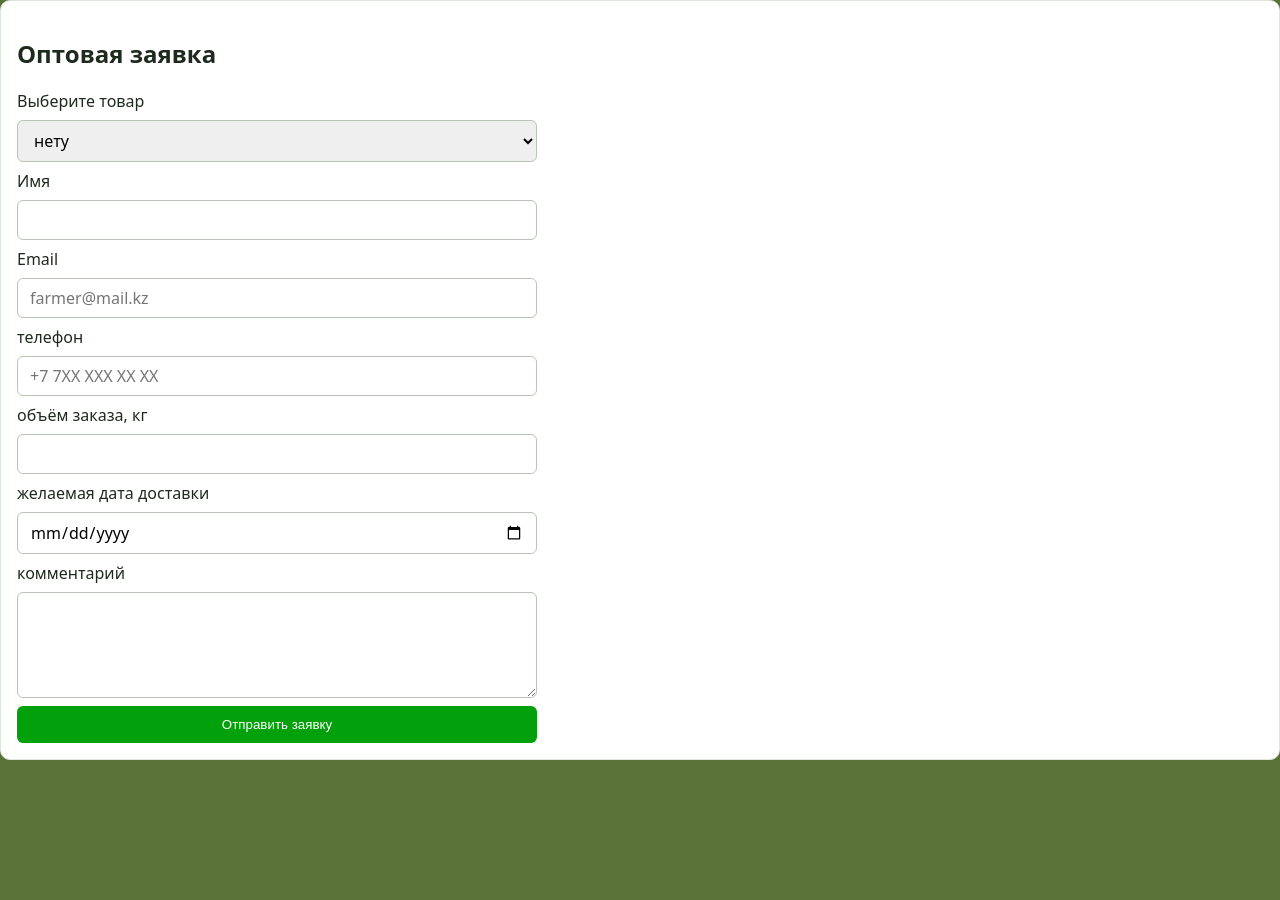
Test: Оптовая заявка — MSW › обрабатывает обрыв сети при отправке
Select "Мёд гречишный" in the dropdown labelled "Выберите товар" at x=277, y=141, box [17, 120, 537, 162]
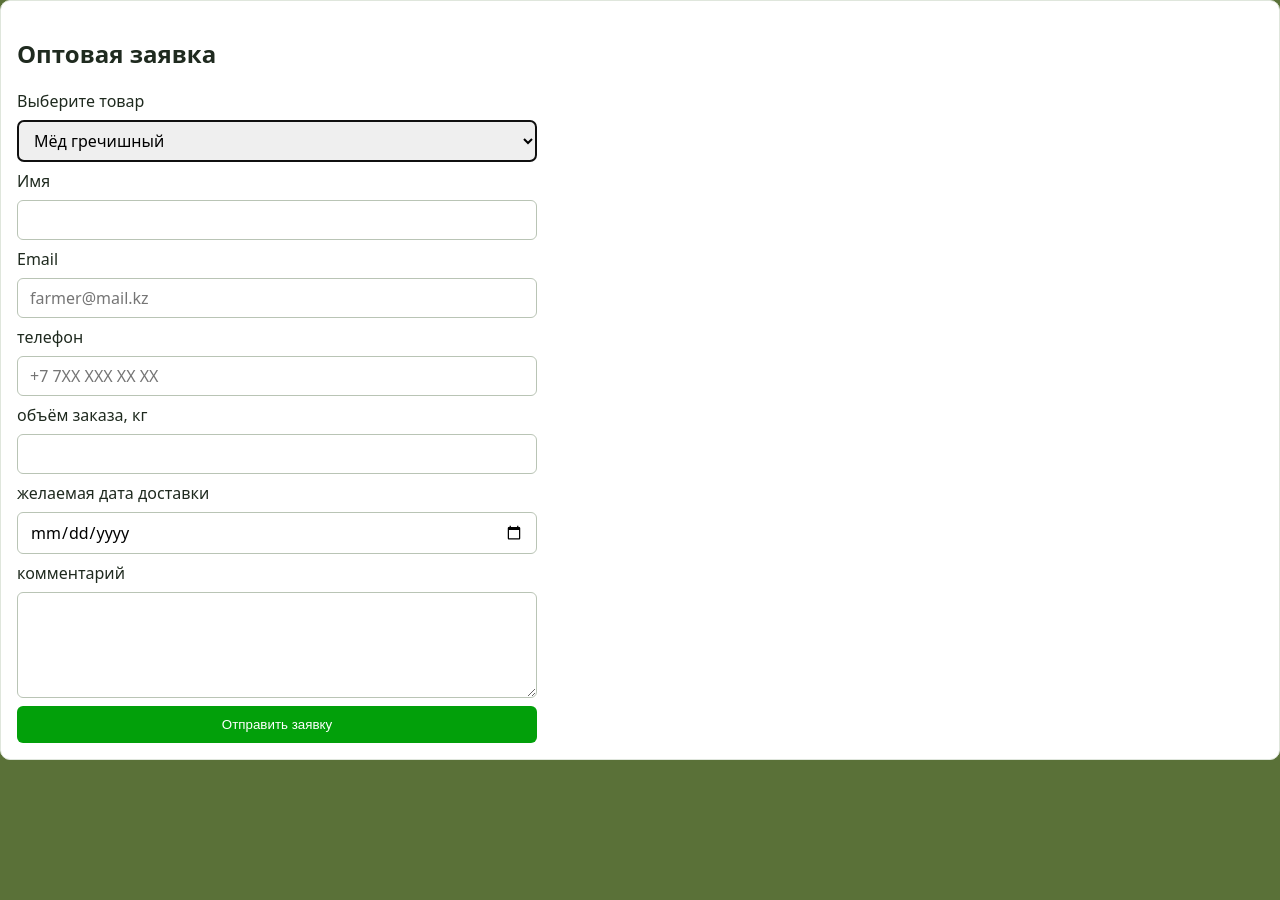
Type "Покупатель" into the field labelled "Имя" at x=277, y=220, box [17, 200, 537, 240]
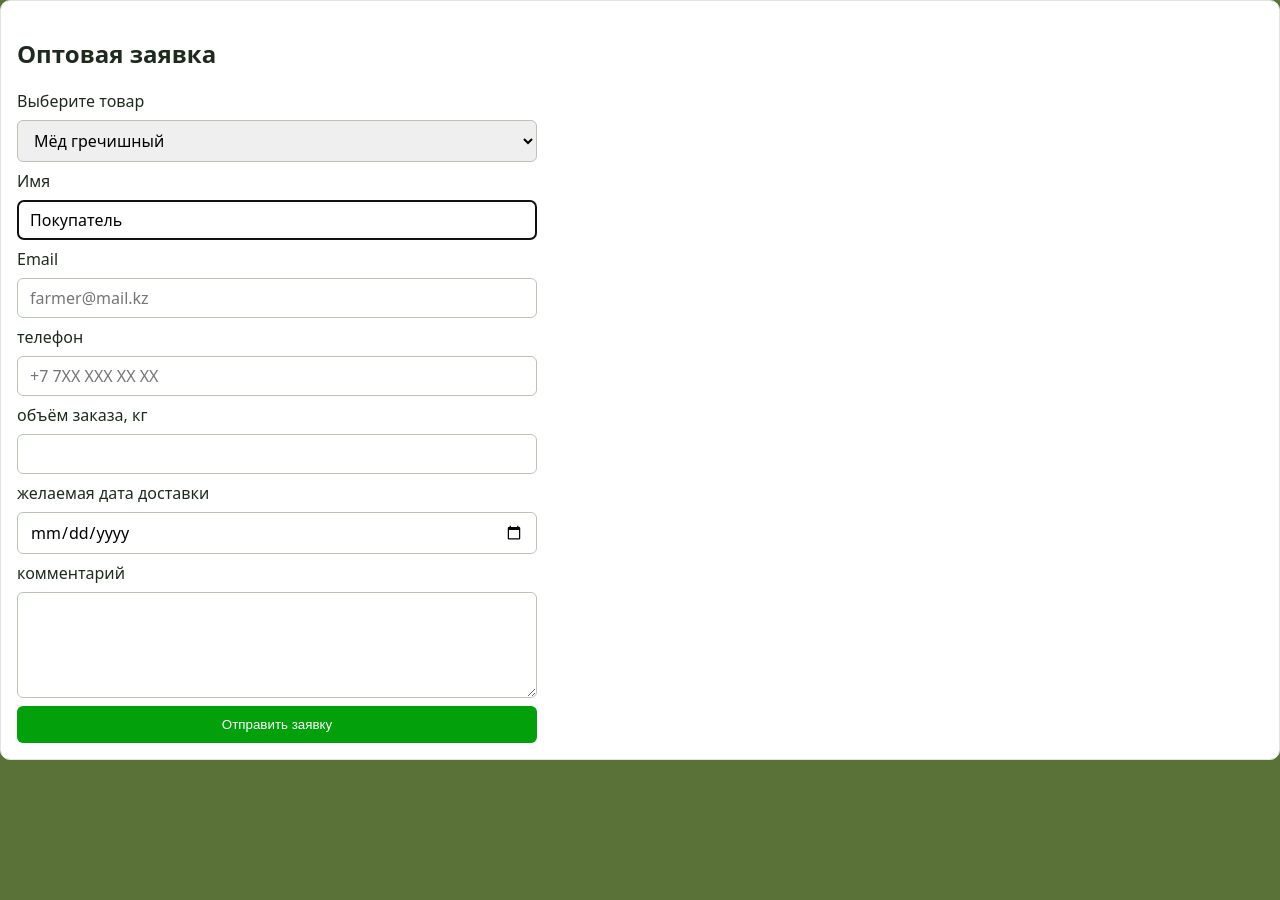
Type "buyer@example.test" into the field labelled "Email" at x=277, y=298, box [17, 278, 537, 318]
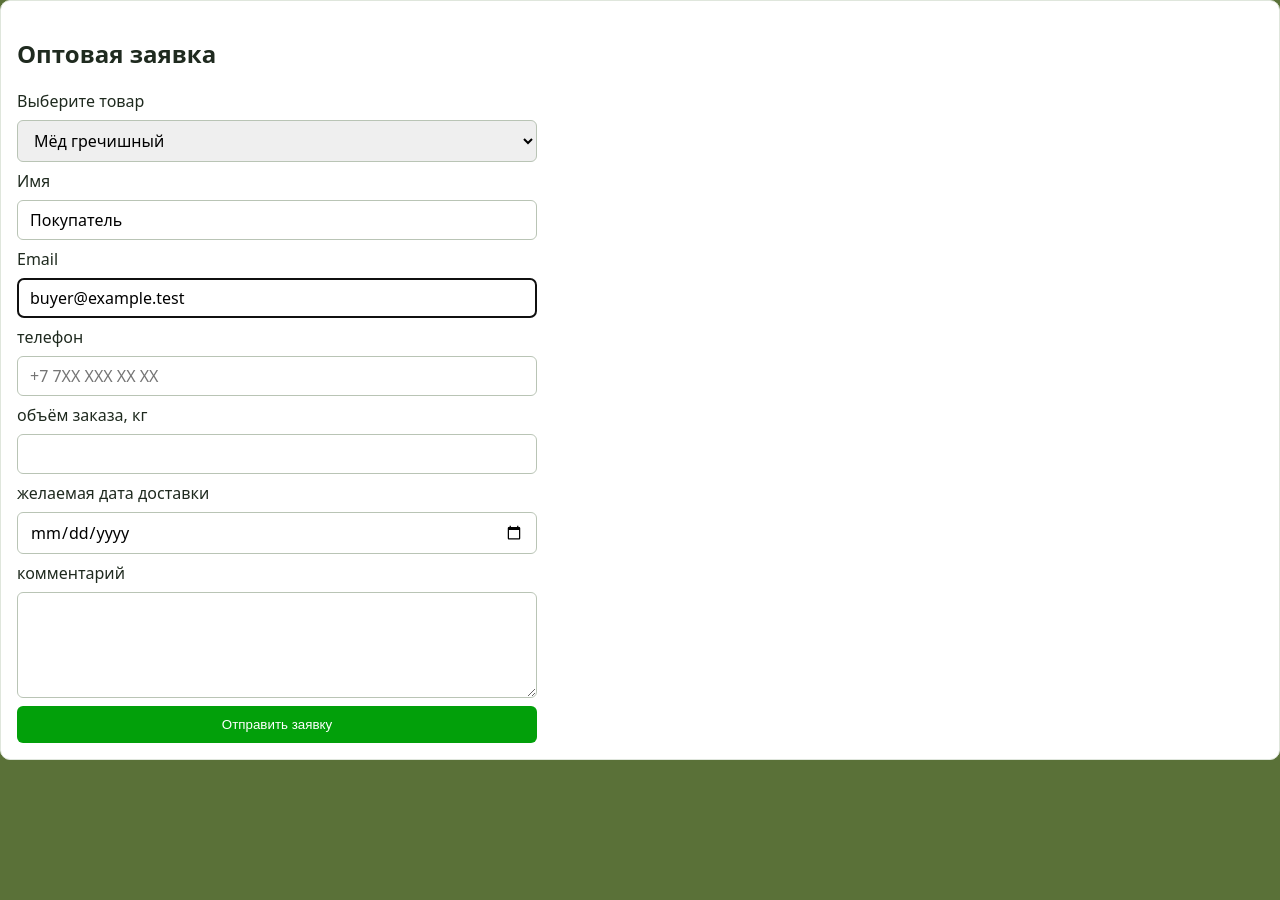
Type "10" into the number field labelled "объём заказа, кг" at x=277, y=454, box [17, 434, 537, 474]
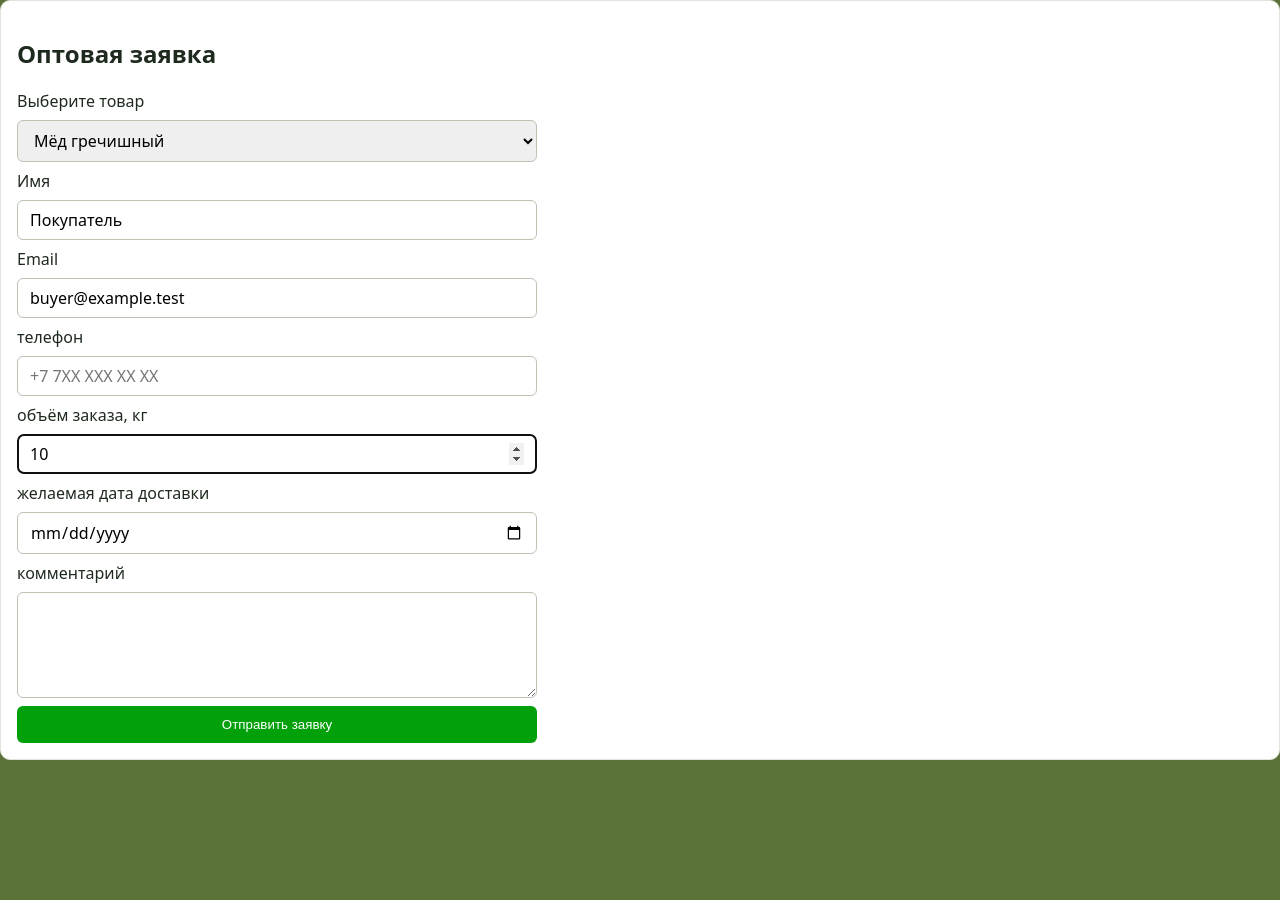
Click the button "Отправить заявку" at x=277, y=724, box [17, 706, 537, 743]
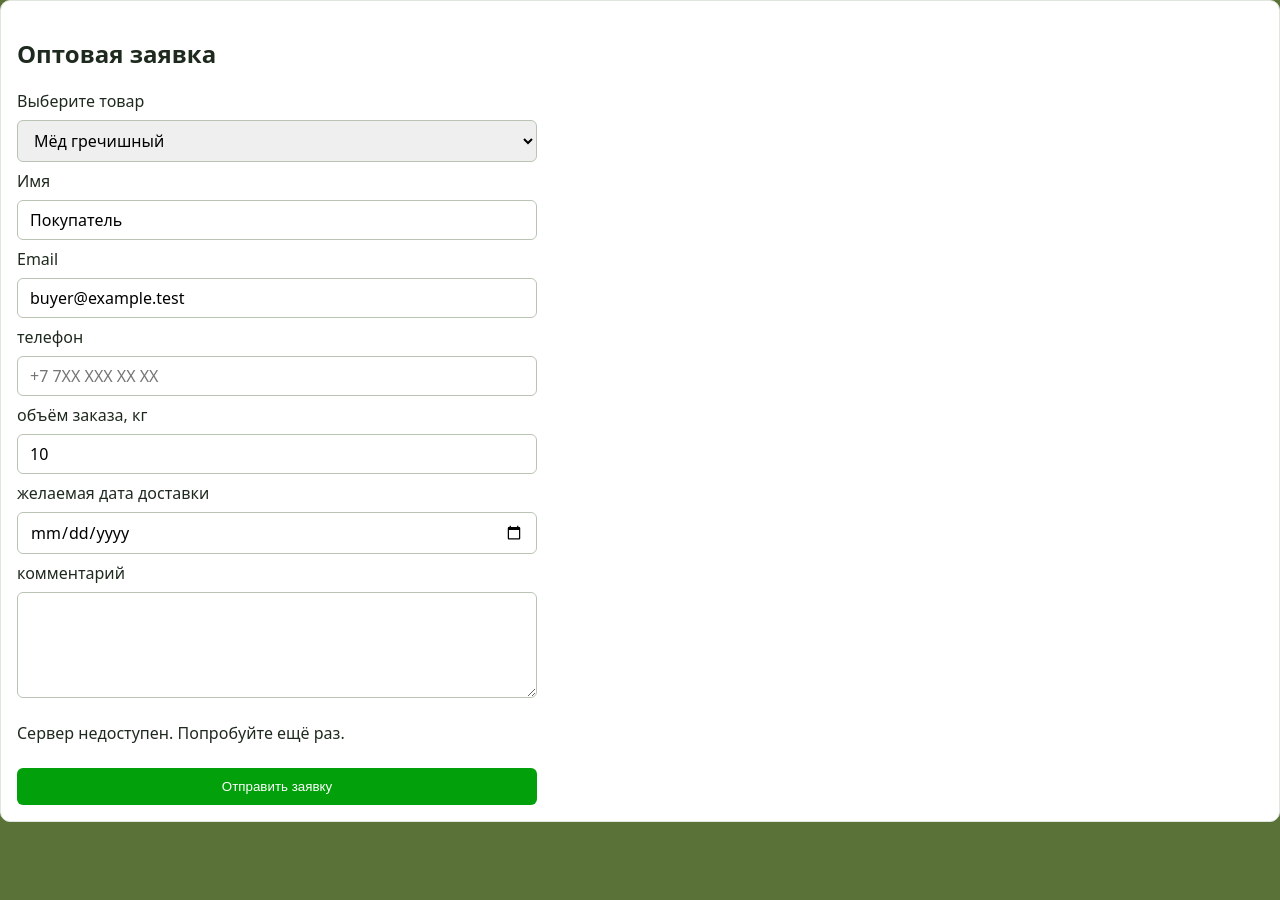
Check: the button "Отправить заявку" is enabled, box [17, 768, 537, 805]
Check: the message shows "Сервер недоступен", box [17, 722, 345, 744]
